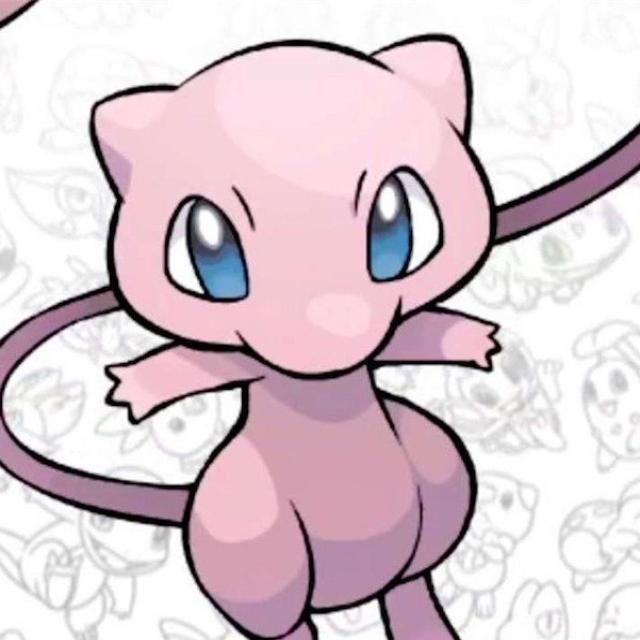Mew: (141, 31, 493, 581)
